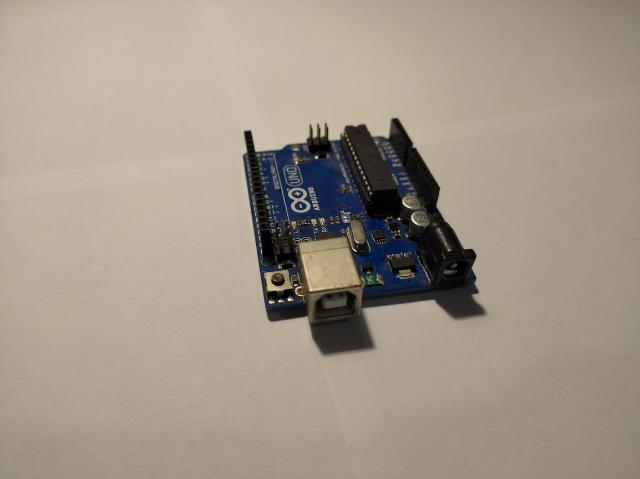arduino: (242, 118, 476, 322)
